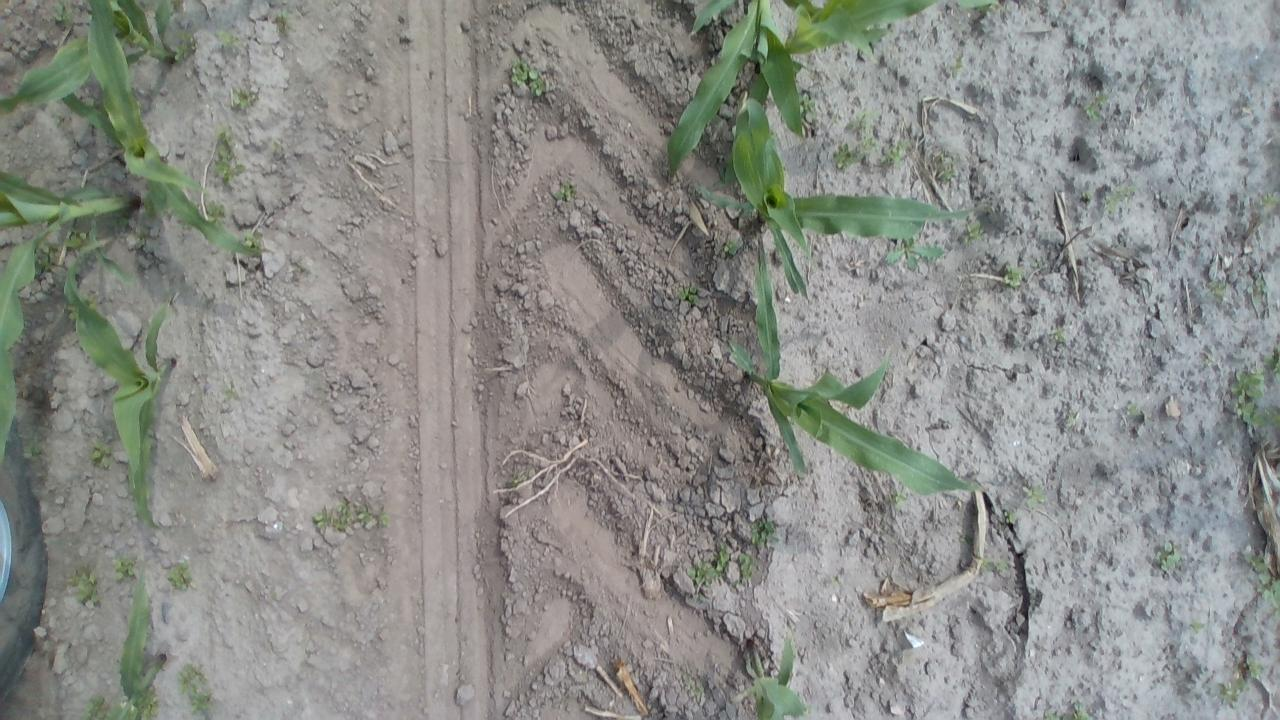Maize: (723, 219, 988, 500), (694, 46, 975, 299), (669, 0, 990, 176), (65, 0, 264, 263), (0, 172, 138, 468), (52, 238, 182, 538), (0, 0, 189, 115), (108, 570, 162, 720), (741, 629, 818, 720), (950, 0, 1004, 13)
Weeds: (882, 232, 948, 272), (1228, 367, 1268, 427), (316, 501, 392, 530), (177, 660, 216, 715), (211, 124, 244, 187), (686, 540, 730, 586), (508, 58, 550, 99), (832, 133, 878, 169), (68, 568, 103, 606), (1220, 672, 1254, 710), (1104, 180, 1137, 219), (748, 514, 780, 552), (1257, 574, 1280, 621), (1154, 538, 1184, 574), (930, 148, 960, 183), (166, 560, 196, 594), (231, 82, 263, 112), (135, 684, 162, 718), (880, 137, 911, 166), (90, 437, 116, 470), (172, 28, 196, 63), (110, 554, 138, 584), (1084, 88, 1108, 122), (941, 54, 970, 82), (64, 222, 91, 252), (714, 153, 736, 189), (216, 26, 246, 52), (675, 284, 706, 308), (36, 241, 57, 276), (49, 1, 76, 28), (554, 178, 580, 206), (1022, 481, 1048, 509), (960, 216, 986, 244), (270, 8, 295, 37), (980, 555, 1010, 579), (1001, 262, 1026, 290), (237, 230, 265, 255), (206, 198, 229, 228), (85, 693, 112, 718), (796, 92, 820, 120), (849, 109, 880, 130), (1247, 274, 1269, 302), (716, 236, 742, 258), (1263, 345, 1280, 378), (1206, 280, 1228, 304), (22, 434, 44, 458), (505, 468, 534, 486), (1121, 400, 1147, 420), (888, 486, 909, 510), (1074, 700, 1098, 720), (1048, 324, 1070, 345), (107, 210, 131, 229), (1243, 553, 1268, 570), (1246, 657, 1266, 678), (1260, 190, 1277, 214), (1078, 188, 1096, 210), (132, 226, 151, 246), (78, 292, 99, 310), (65, 304, 83, 325), (48, 112, 70, 129), (739, 554, 753, 580), (1001, 507, 1019, 527), (268, 138, 285, 158), (1031, 255, 1048, 274), (1188, 618, 1208, 634), (1266, 408, 1280, 428), (828, 572, 844, 588), (222, 386, 235, 400), (1204, 355, 1219, 367), (1044, 710, 1060, 720), (692, 592, 706, 602), (86, 96, 98, 107), (1067, 414, 1077, 426), (682, 674, 692, 686), (693, 686, 703, 696), (960, 534, 971, 543), (804, 703, 812, 714), (833, 113, 840, 124), (1062, 715, 1074, 720), (731, 581, 740, 587)
